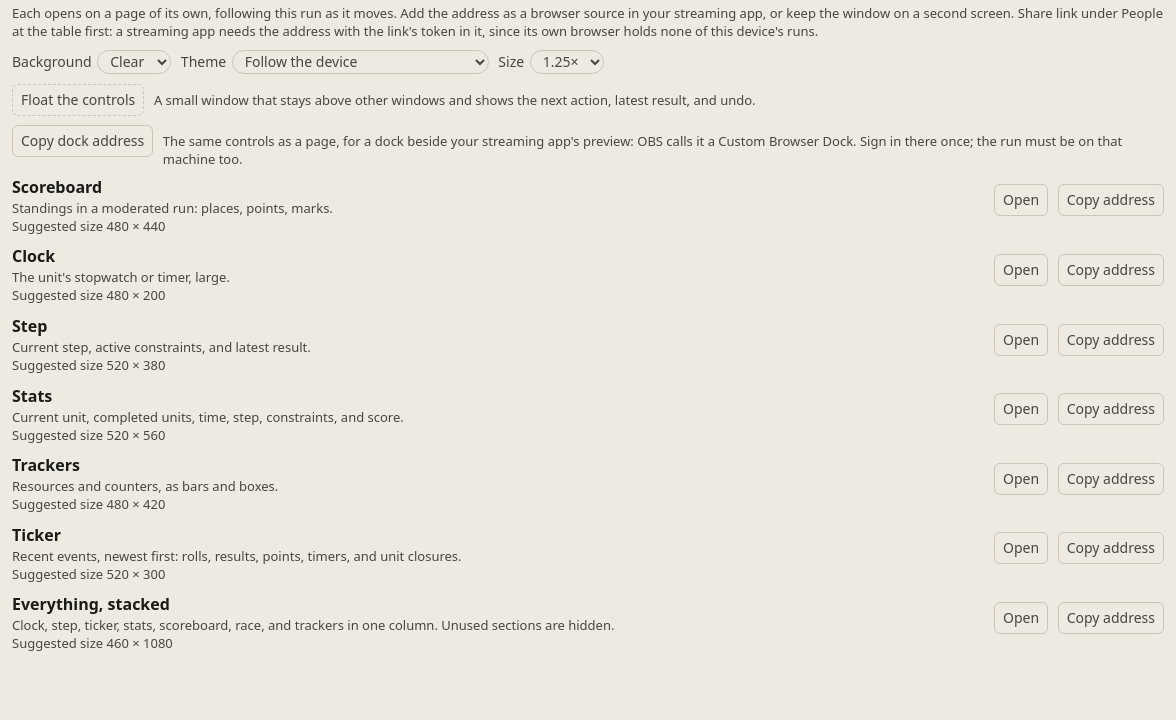
following this device from anywhere › makes the link the first time it is chosen, and holds every address until the first look lands
Select "Follow this device from anywhere" in the dropdown named "Widget theme" at (360, 62), box [232,50,489,74]
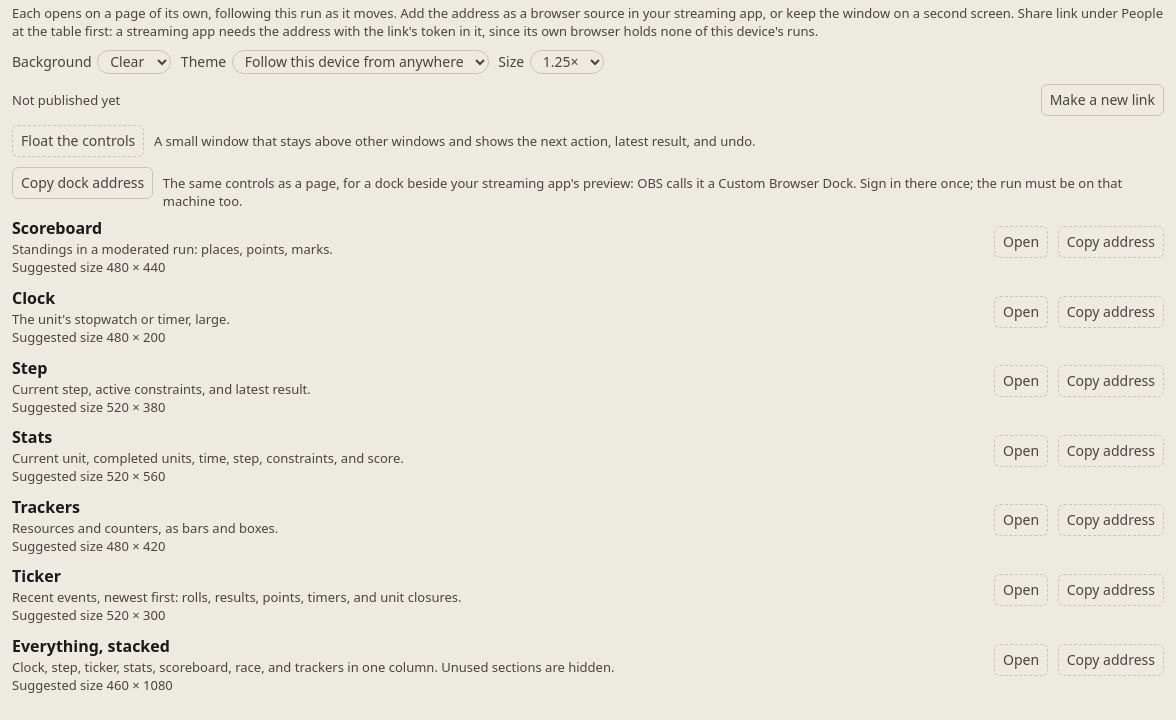
Expected: the text "Not published yet" is shown, [12,91,120,109]
Expected: the 1st button "Copy address" is disabled, [1058,226,1164,258]
Expected: the 1st button "Open" is disabled, [994,226,1048,258]
